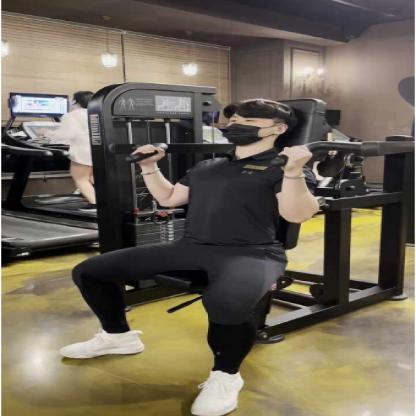shoulder press machine: (34, 55, 416, 416)
